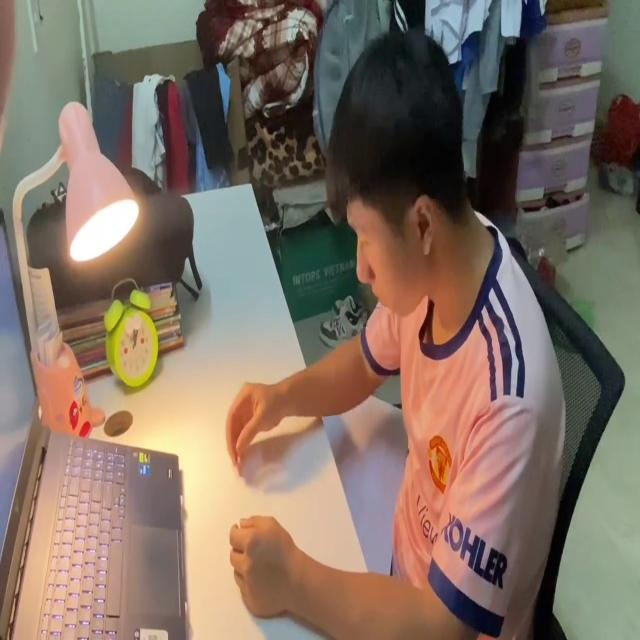book: (322, 380, 411, 576)
laptop: (0, 206, 191, 640)
student: (223, 28, 573, 640)
